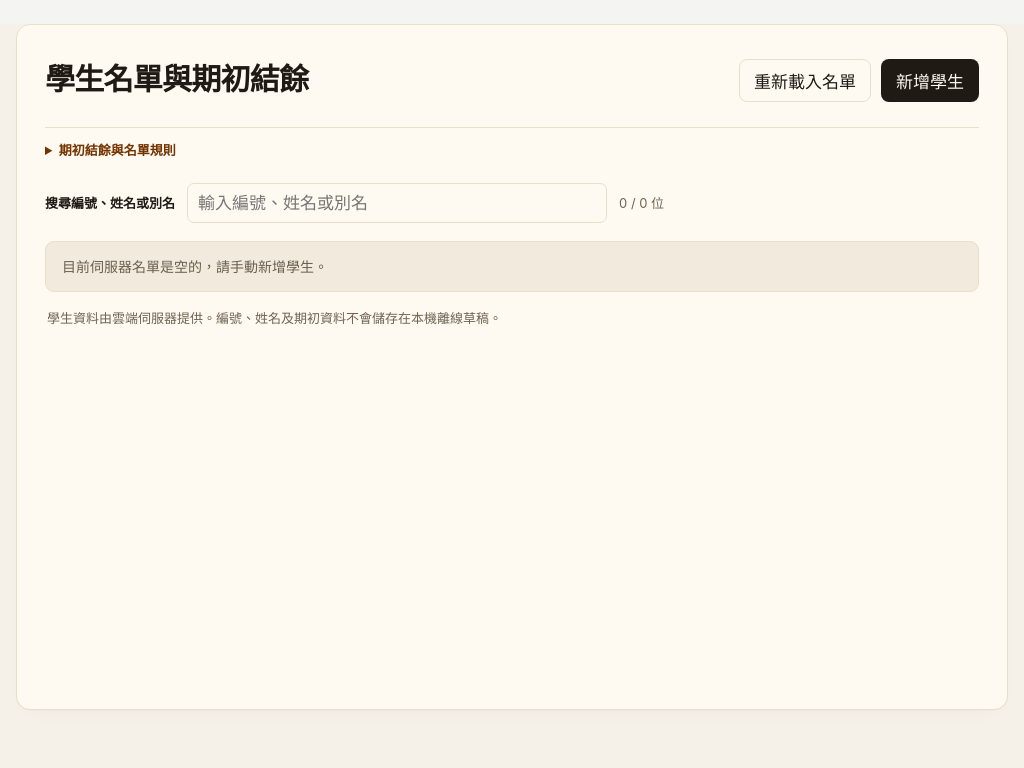
CloudStudentsPage › uses EmptyState for empty and unmatched student lists
Expected: the text "目前伺服器名單是空的，請手動新增學生。" is shown, 62,258 -> 328,275
Type "不存在" into the field labelled "搜尋編號、姓名或別名" at (397, 203), box 187,183 -> 607,223
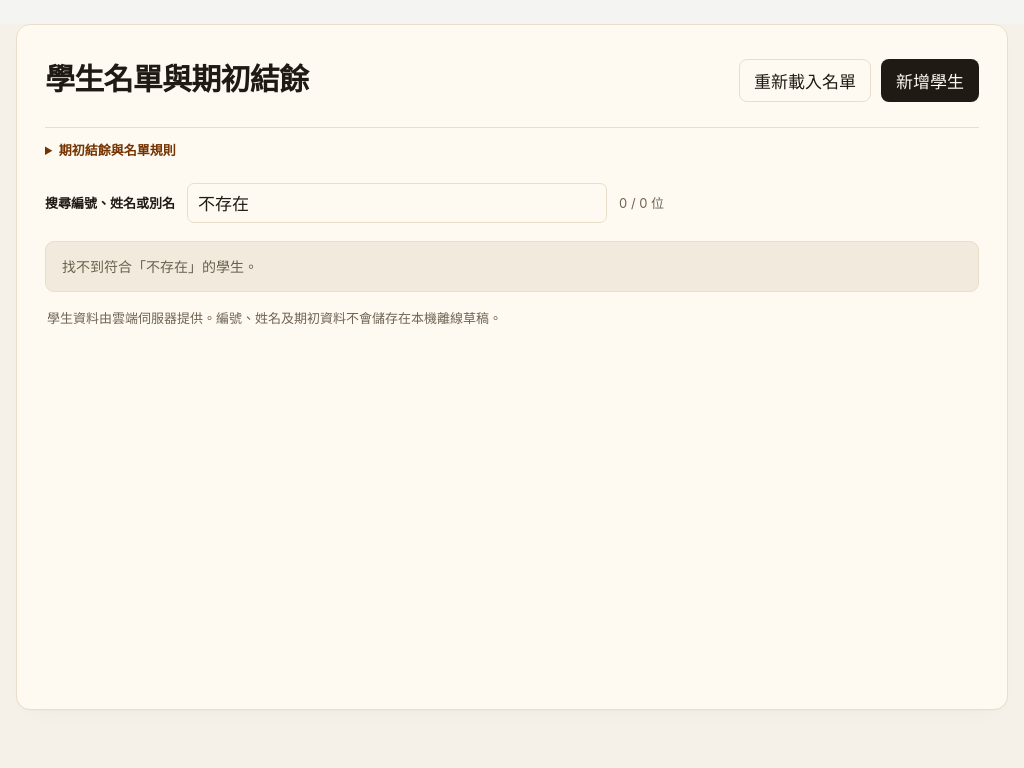
Now the text "找不到符合「不存在」的學生。" is shown, box 62,258 -> 258,275
